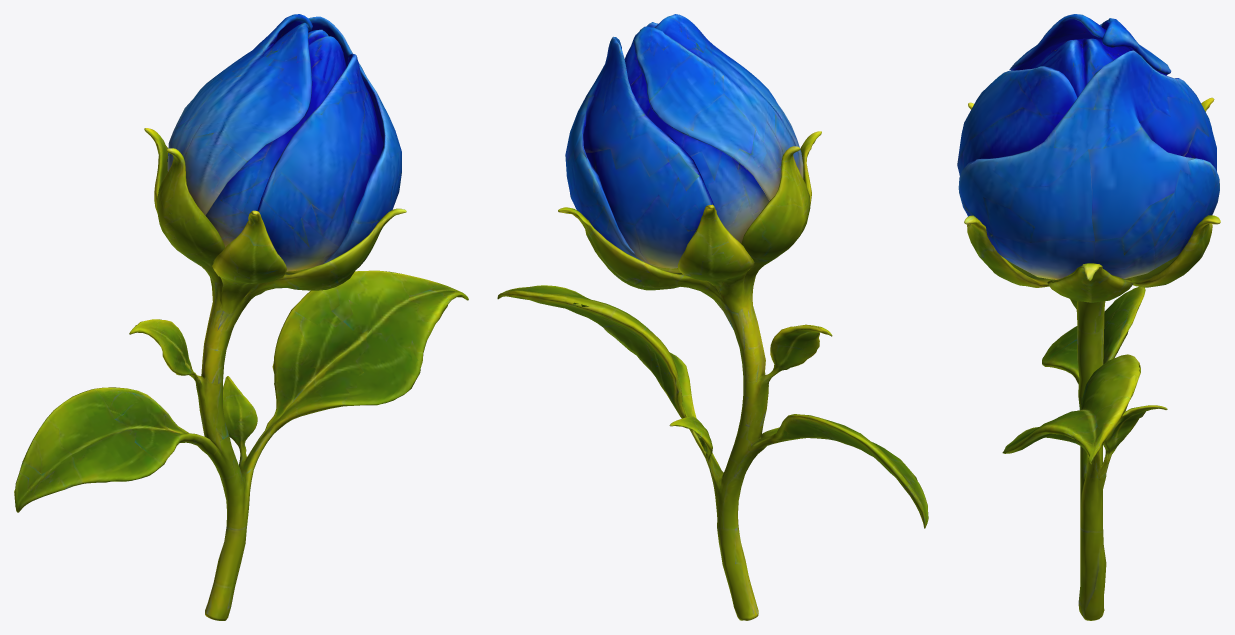
The model's file is bud_blue.glb.
3 renders of one model, left to right at view 1: azimuth 30°, elevation 25°; view 2: azimuth 150°, elevation 25°; view 3: azimuth 270°, elevation 25°, orthographic. The views are drawn at different scales.
Visible parts, largest first — view 1: geometry_0; view 2: geometry_0; view 3: geometry_0.
Boxes of the visible parts, x1,y1,x2,y2 form: geometry_0: [14, 14, 468, 620]; geometry_0: [497, 14, 928, 620]; geometry_0: [957, 14, 1220, 620].
Bounding box in the file's own units: 0.7563 × 0.9507 × 0.3511.
1 material, 1 textured.
